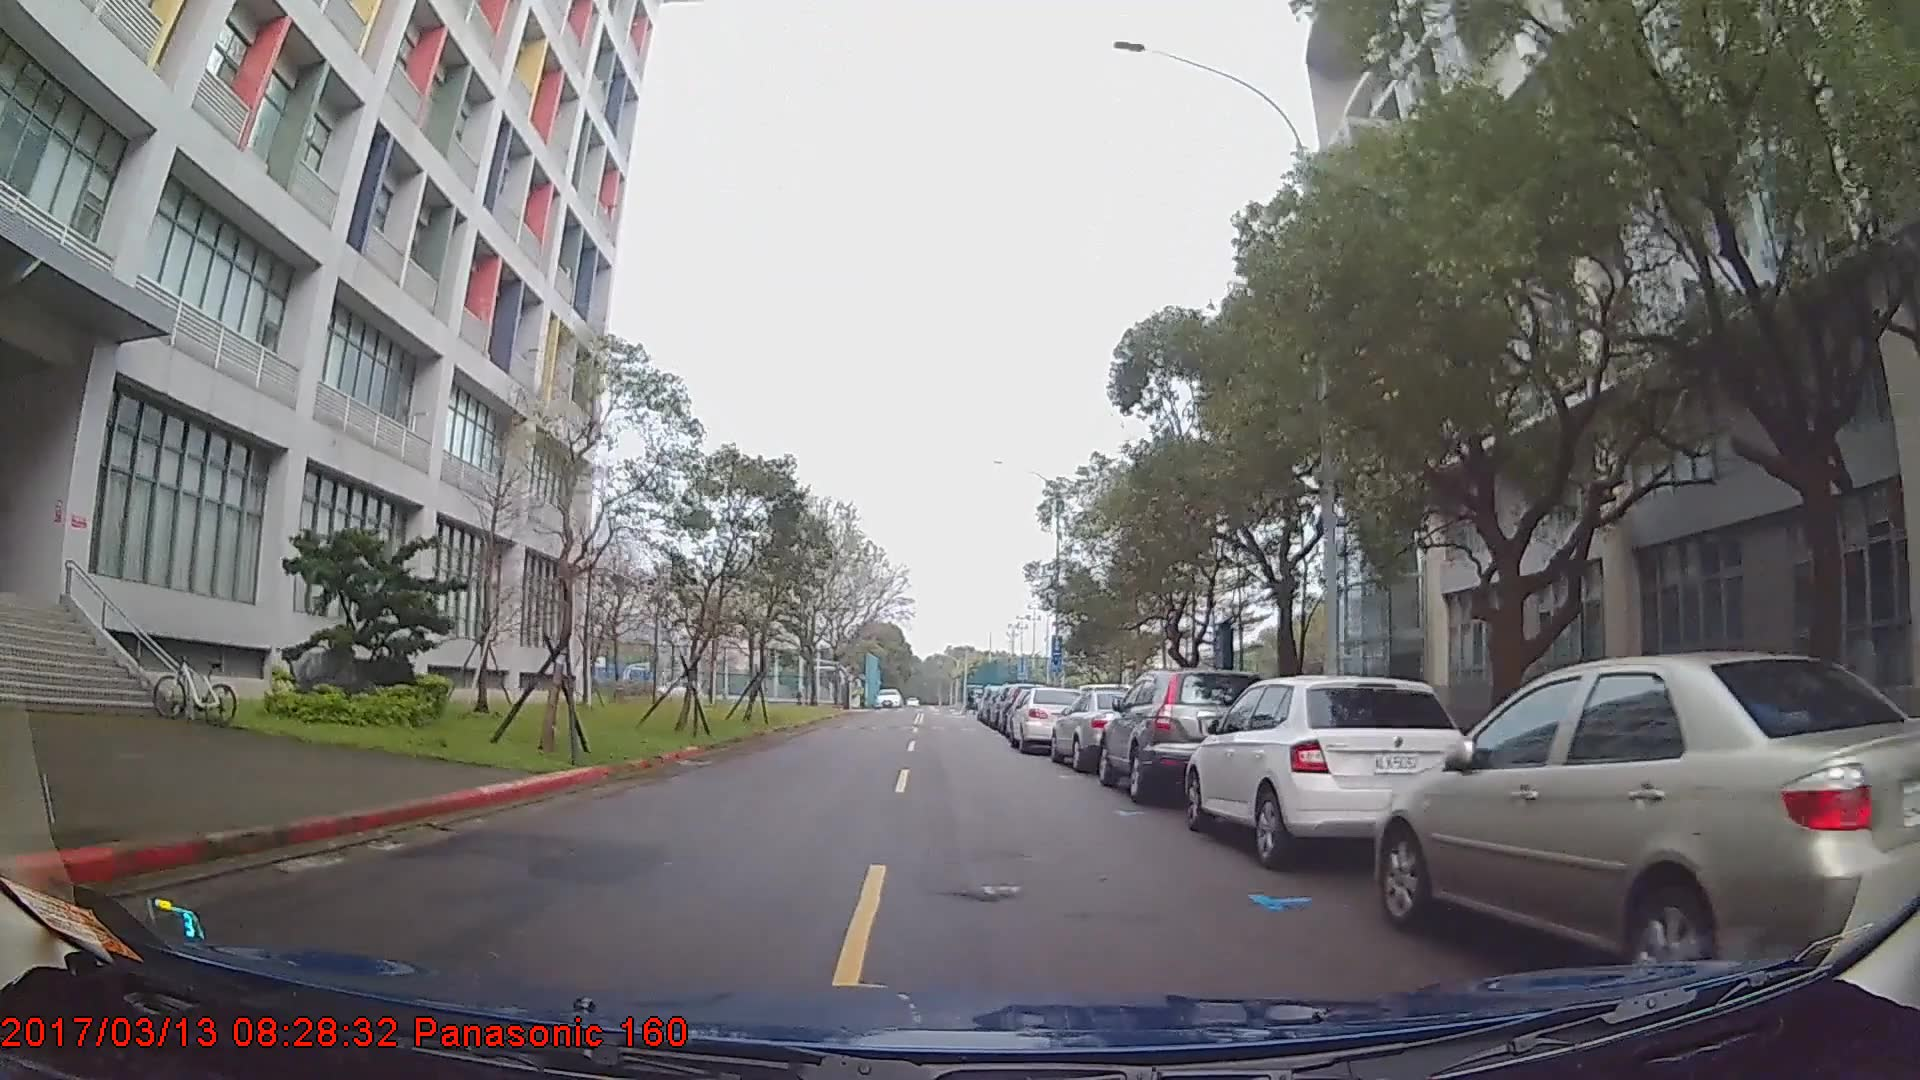vehicle: (1374, 649, 1920, 992), (1185, 674, 1472, 870), (1095, 667, 1274, 804), (1048, 686, 1151, 770), (1009, 686, 1089, 756)
